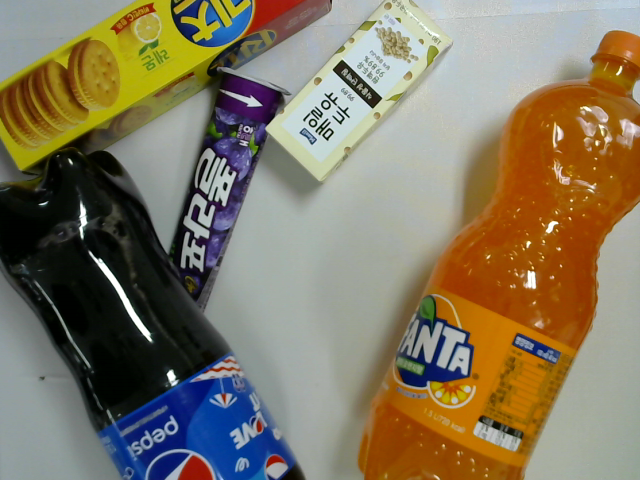99.89_Soymilk: (261, 1, 450, 187)
Hwanta_Orange_1.5L: (351, 28, 640, 477)
Pepsi_Cola_1.5L: (1, 145, 317, 480)
Polapo_Grape: (152, 62, 290, 333)
Ritz_Remon_96g: (3, 1, 338, 174)
